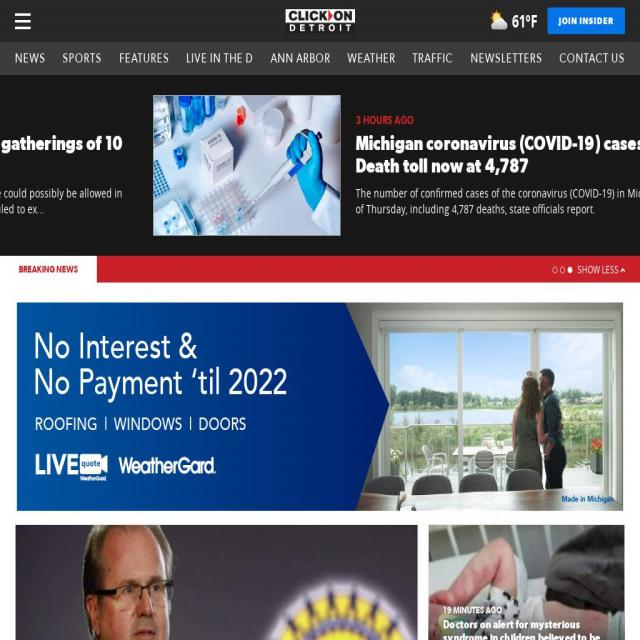navigation-blocks: (6, 520, 625, 640)
navigation-links: (8, 48, 632, 72)
options: (9, 8, 36, 35)
